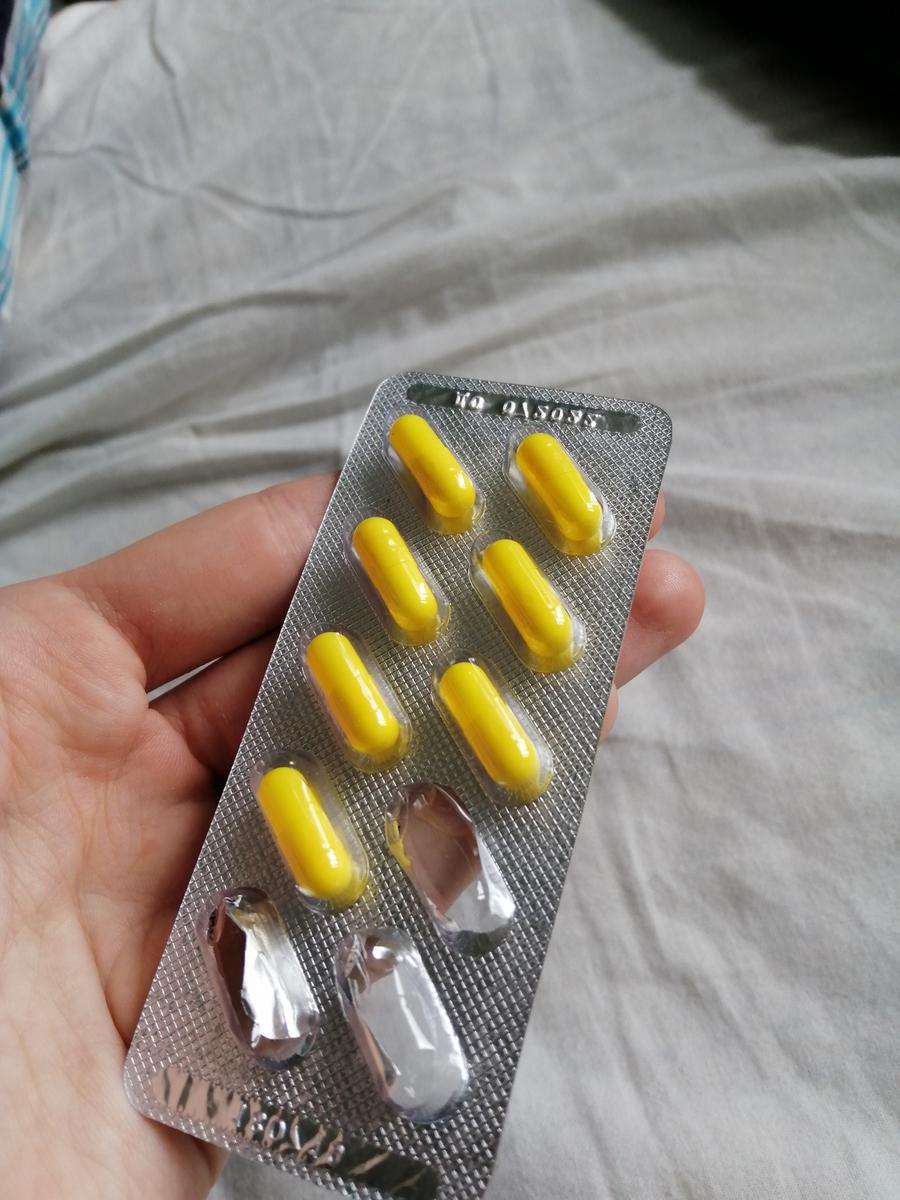capsule: (430, 659, 554, 797), (255, 766, 365, 910), (480, 538, 583, 665), (302, 629, 401, 757), (511, 429, 608, 554), (346, 513, 445, 635), (387, 406, 481, 529)
